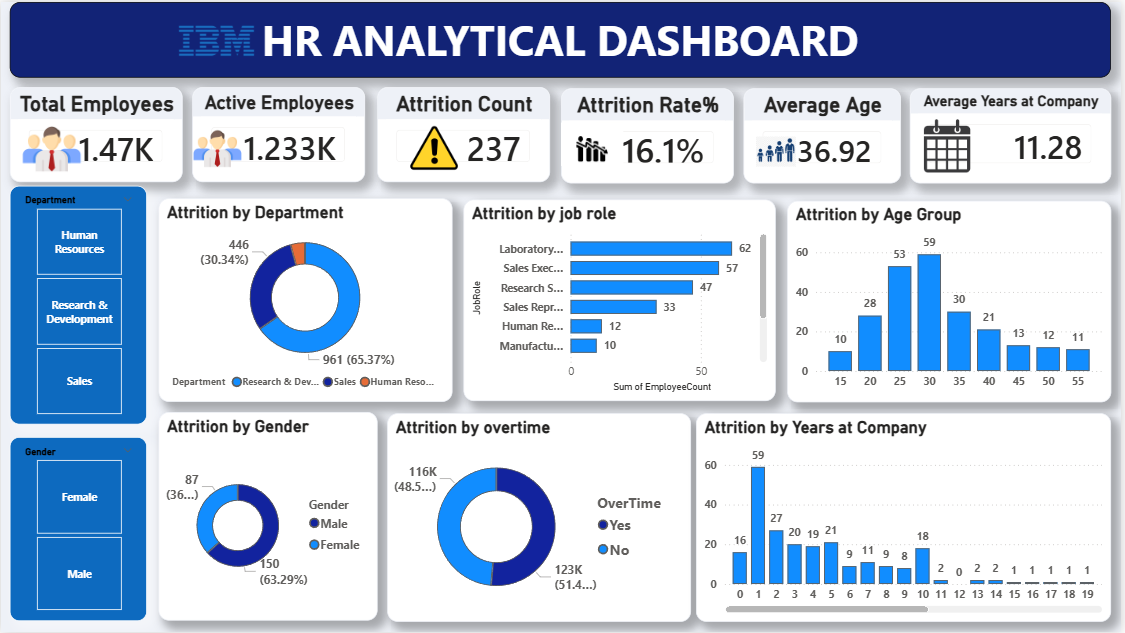

This screenshot's page, from the dashboard's own definition file:
{"tool":"powerbi","page":{"name":"Page 1","canvas":[1280,720],"ordinal":0},"visuals":[{"type":"textbox","box":[9.6,0,1258.3,86.4],"z":0},{"type":"image","box":[84.3,1.4,324.3,85.7],"z":1000},{"type":"cardVisual","title":"Total Employees","fields":{"Data":["CountNonNull(WA_Fn-UseC-HR-Employee-Attrition.EmployeeCount)"]},"box":[9.6,97.4,197.6,108.4],"z":2000},{"type":"cardVisual","title":"Active Employees","fields":{"Data":["CountNonNull(WA_Fn-UseC-HR-Employee-Attrition.EmployeeCount)"]},"box":[218.2,97.4,197.6,108.4],"z":3000},{"type":"cardVisual","title":"Attrition Count","fields":{"Data":["Sum(WA_Fn-UseC-HR-Employee-Attrition.Attrition count)"]},"box":[429.5,97.4,197.6,108.4],"z":4000},{"type":"cardVisual","title":"Attrition Rate%","fields":{"Data":["WA_Fn-UseC-HR-Employee-Attrition.Attrition rate%"]},"box":[639.5,98.8,197.6,108.4],"z":5000},{"type":"cardVisual","title":"Average Age","fields":{"Data":["Avg(WA_Fn-UseC-HR-Employee-Attrition.Age)"]},"box":[848.6,98.6,180,108.6],"z":6000},{"type":"cardVisual","title":"Average Years at Company","fields":{"Data":["Avg(WA_Fn-UseC-HR-Employee-Attrition.TotalWorkingYears)"]},"box":[1038.6,98.6,230,108.6],"z":7000},{"type":"donutChart","title":" Attrition by Department","fields":{"Category":["WA_Fn-UseC-HR-Employee-Attrition.Department"],"Y":["CountNonNull(WA_Fn-UseC-HR-Employee-Attrition.Attrition)"]},"box":[180,224.3,335.7,232.9],"z":8000},{"type":"donutChart","title":"Attrition by Gender","fields":{"Category":["WA_Fn-UseC-HR-Employee-Attrition.Gender"],"Y":["Sum(WA_Fn-UseC-HR-Employee-Attrition.Attrition count)"]},"box":[180,468.6,250,238.6],"z":8001},{"type":"image","box":[20,132.9,75.7,70],"z":8003},{"type":"image","box":[218.2,130.4,57.6,75.5],"z":8004},{"type":"image","box":[461.4,128.6,67.1,77.1],"z":8005},{"type":"image","box":[862.9,138.6,45.7,64.3],"z":8006},{"type":"clusteredBarChart","title":"Attrition by job role","fields":{"Category":["WA_Fn-UseC-HR-Employee-Attrition.JobRole"],"Y":["Sum(WA_Fn-UseC-HR-Employee-Attrition.EmployeeCount)"]},"box":[528.6,225.7,357.1,230],"z":8008},{"type":"donutChart","title":"Attrition by overtime","fields":{"Category":["WA_Fn-UseC-HR-Employee-Attrition.OverTime"],"Y":["Sum(WA_Fn-UseC-HR-Employee-Attrition.EmployeeNumber)"]},"box":[441.4,470,347.1,238.6],"z":8009},{"type":"columnChart","title":"Attrition by Age  Group","fields":{"Y":["CountNonNull(WA_Fn-UseC-HR-Employee-Attrition.Attrition)"],"Category":["WA_Fn-UseC-HR-Employee-Attrition.Age (bins)"]},"box":[898.6,227.1,370,230],"z":8010},{"type":"columnChart","title":"Attrition by Years at Company","fields":{"Category":["WA_Fn-UseC-HR-Employee-Attrition.YearsAtCompany"],"Y":["Sum(WA_Fn-UseC-HR-Employee-Attrition.Attrition count)"]},"box":[794.3,470,474.3,238.6],"z":8011},{"type":"slicer","fields":{"Values":["WA_Fn-UseC-HR-Employee-Attrition.Department"]},"box":[10,210,157.1,272.9],"z":8012},{"type":"slicer","fields":{"Values":["WA_Fn-UseC-HR-Employee-Attrition.Gender"]},"box":[10,497.1,157.1,210],"z":8013},{"type":"image","box":[640,98.6,71.4,128.6],"z":8014},{"type":"image","box":[1028.6,127.1,105.7,75.7],"z":8015}]}

Visuals, with their boxes in screenshot pixels (x1, y1, x2, y2), scaled from the page's 1280x720 canvas onto the 1125x633 screenshot:
textbox: bbox(8, 0, 1114, 76)
image: bbox(74, 1, 359, 77)
"Total Employees" cardVisual: bbox(8, 86, 182, 181)
"Active Employees" cardVisual: bbox(192, 86, 365, 181)
"Attrition Count" cardVisual: bbox(377, 86, 551, 181)
"Attrition Rate%" cardVisual: bbox(562, 87, 736, 182)
"Average Age" cardVisual: bbox(746, 87, 904, 182)
"Average Years at Company" cardVisual: bbox(913, 87, 1115, 182)
" Attrition by Department" donutChart: bbox(158, 197, 453, 402)
"Attrition by Gender" donutChart: bbox(158, 412, 378, 622)
image: bbox(18, 117, 84, 178)
image: bbox(192, 115, 242, 181)
image: bbox(406, 113, 465, 181)
image: bbox(758, 122, 799, 178)
"Attrition by job role" clusteredBarChart: bbox(465, 198, 778, 401)
"Attrition by overtime" donutChart: bbox(388, 413, 693, 623)
"Attrition by Age  Group" columnChart: bbox(790, 200, 1115, 402)
"Attrition by Years at Company" columnChart: bbox(698, 413, 1115, 623)
slicer - WA_Fn-UseC-HR-Employee-Attrition.Department: bbox(9, 185, 147, 425)
slicer - WA_Fn-UseC-HR-Employee-Attrition.Gender: bbox(9, 437, 147, 622)
image: bbox(562, 87, 625, 200)
image: bbox(904, 112, 997, 178)
